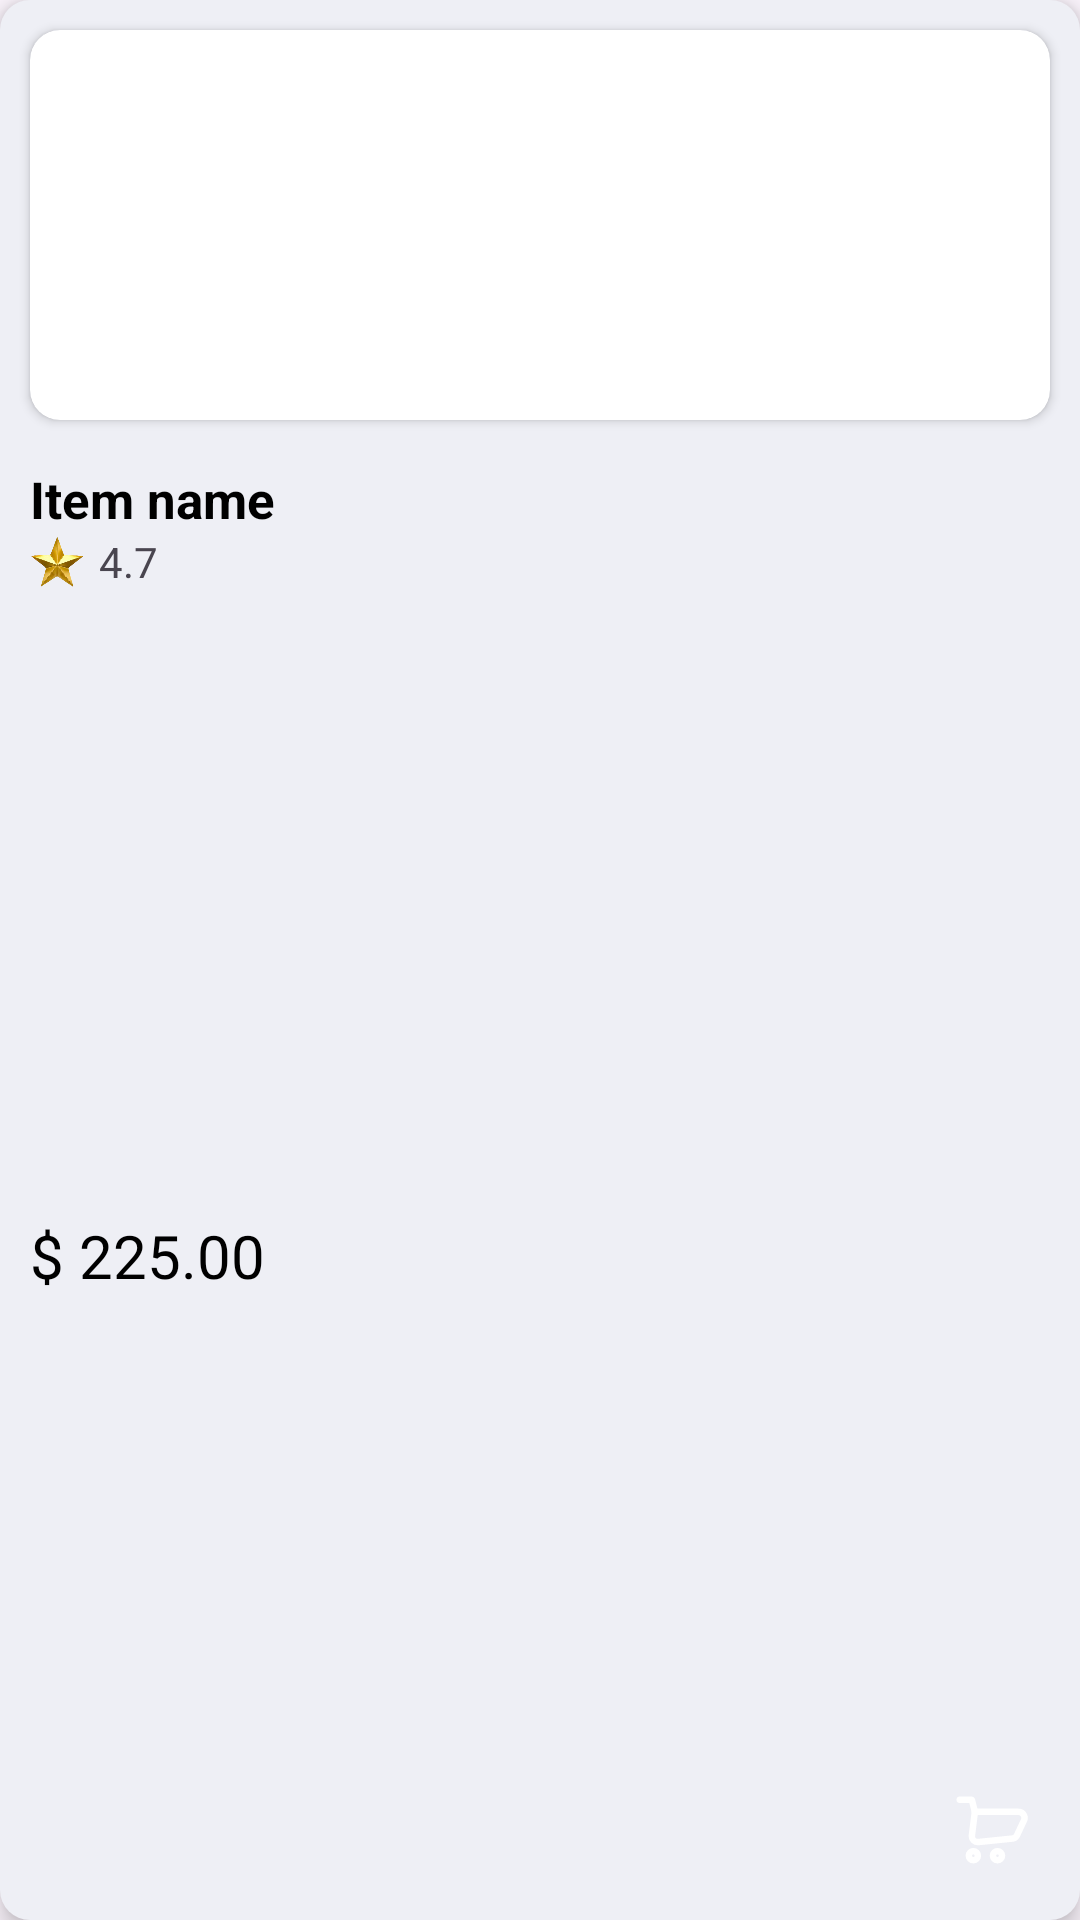

Icons on this 1080×1920 Android screen, each with its box as (x1, y1, x2, y2):
star: (31, 537, 83, 587)
